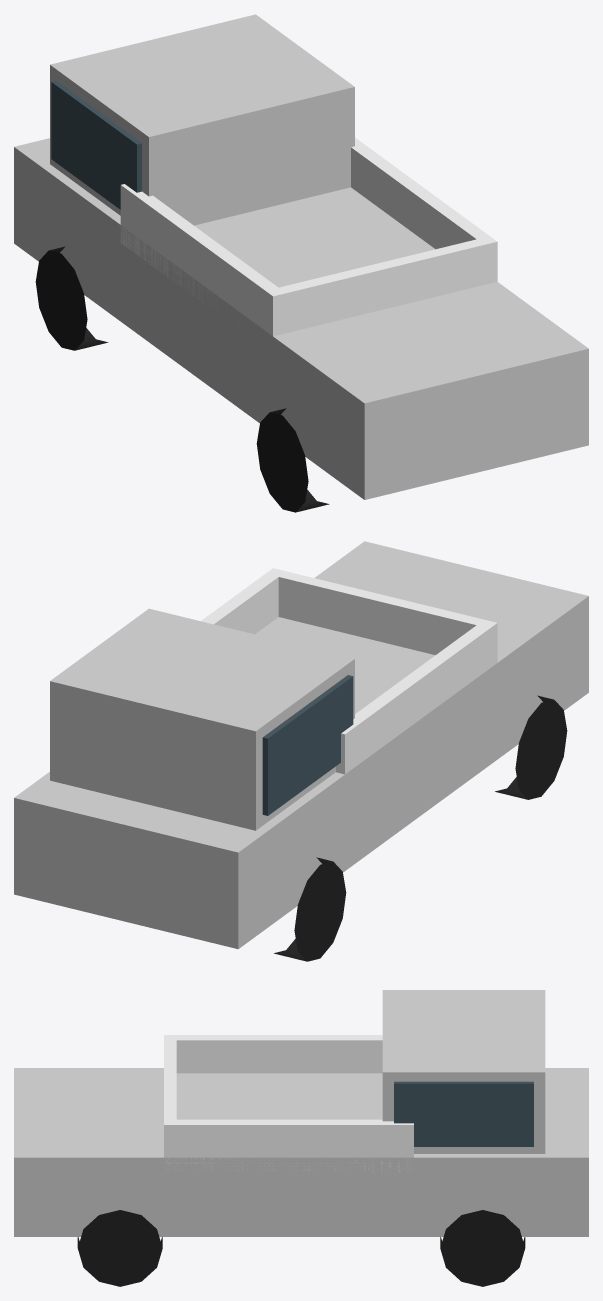
File: truck.glb
3 renders of one model, top to bottom at view 1: azimuth 30°, elevation 25°; view 2: azimuth 150°, elevation 25°; view 3: azimuth 270°, elevation 25°, orthographic. The views are drawn at different scales.
Parts seen in each view (by area): view 1: cars/truck; view 2: cars/truck; view 3: cars/truck.
Boxes of the visible parts, x1,y1,x2,y2 form: cars/truck: [14, 14, 588, 512]; cars/truck: [14, 541, 588, 961]; cars/truck: [14, 990, 588, 1286].
Size of the model in its own units: 0.4261 by 0.3913 by 1.
